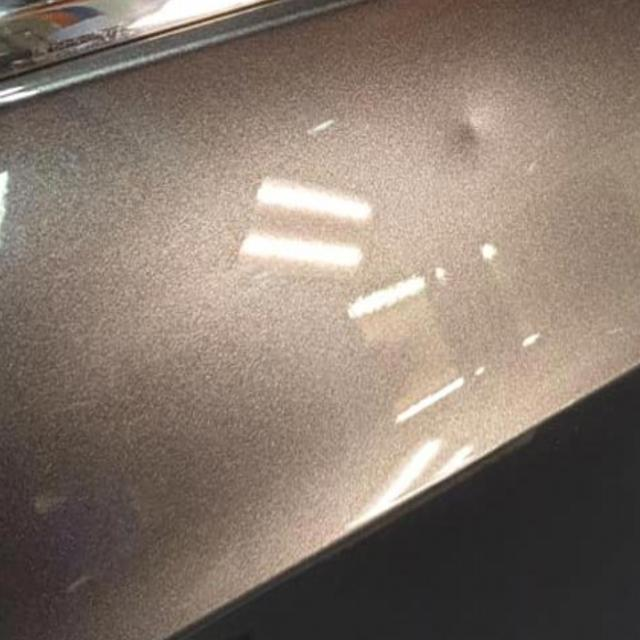dents: (444, 103, 498, 178)
